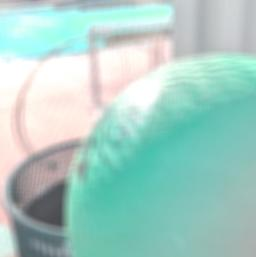algae: (65, 53, 256, 257)
